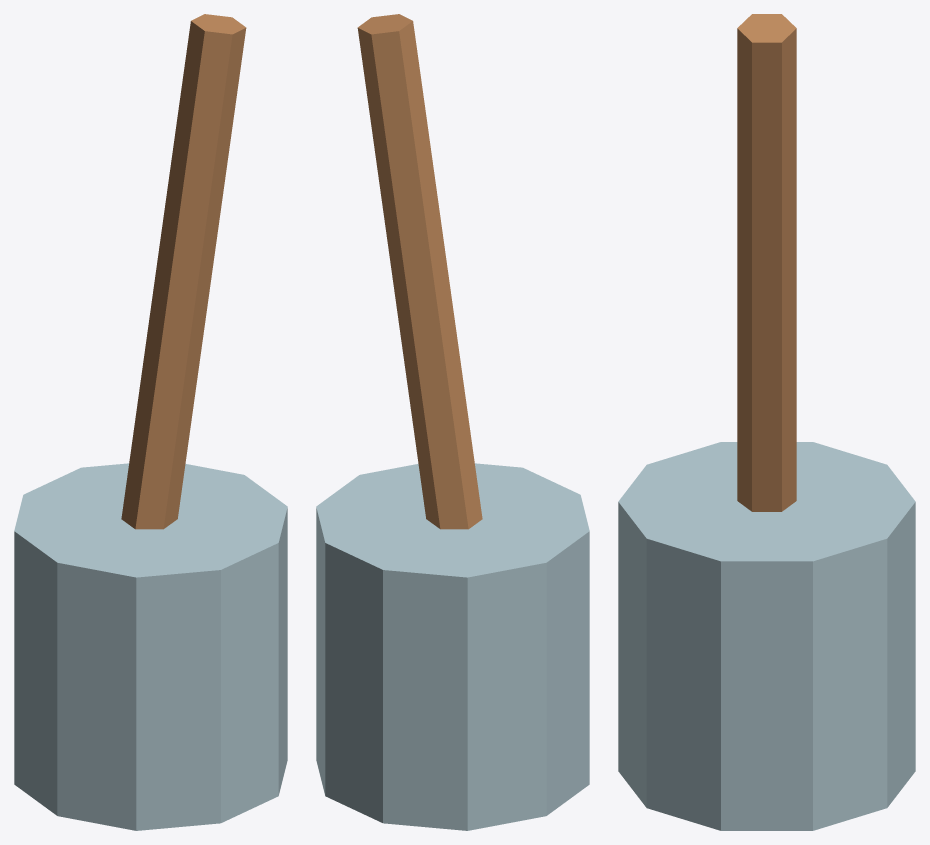
File: spot_brush.glb
3 renders of one model, left to right at view 1: azimuth 30°, elevation 25°; view 2: azimuth 150°, elevation 25°; view 3: azimuth 270°, elevation 25°, orthographic. The views are drawn at different scales.
Visible parts, largest first — view 1: jar_jar_glass, handle_brush_wood; view 2: jar_jar_glass, handle_brush_wood; view 3: jar_jar_glass, handle_brush_wood.
Part boxes in pixels (x1=…): jar_jar_glass: x1=14, y1=463, x2=287, y2=830; handle_brush_wood: x1=121, y1=14, x2=246, y2=529; jar_jar_glass: x1=316, y1=463, x2=589, y2=830; handle_brush_wood: x1=357, y1=14, x2=482, y2=529; jar_jar_glass: x1=618, y1=442, x2=915, y2=830; handle_brush_wood: x1=737, y1=14, x2=796, y2=511.
Size of the model in its own units: 0.0951 by 0.2899 by 0.1.
